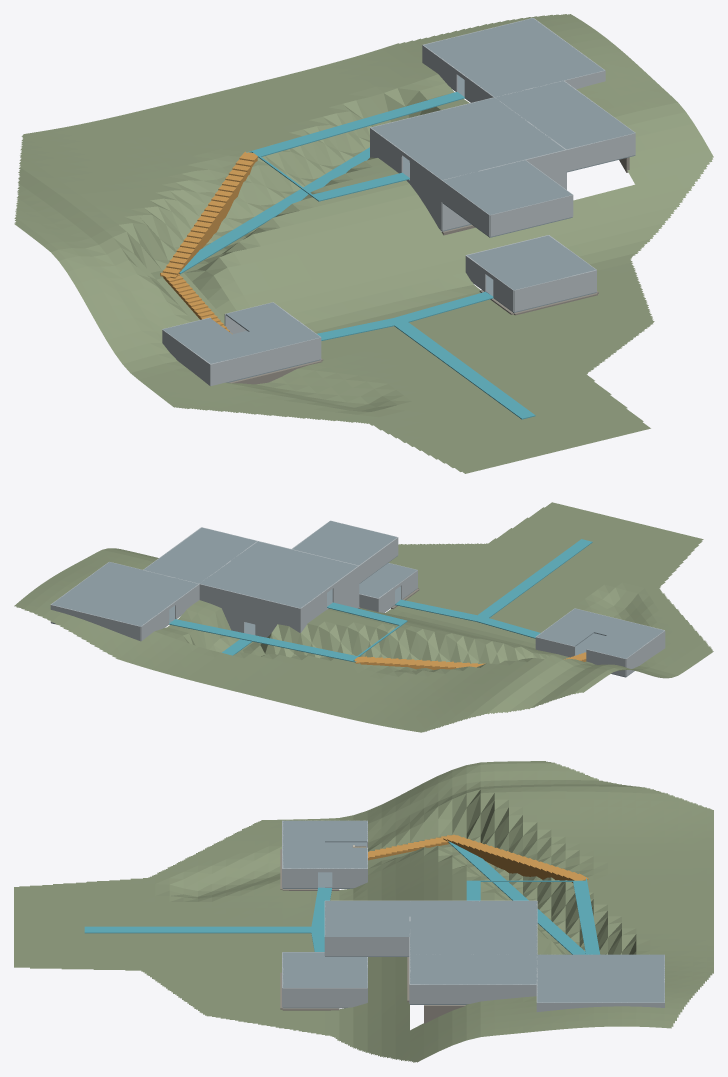
Rendered from open-circulation.glb.
3 renders of one model, top to bottom at view 1: azimuth 30°, elevation 25°; view 2: azimuth 150°, elevation 25°; view 3: azimuth 270°, elevation 25°, orthographic. The views are drawn at different scales.
Visible parts, largest first — view 1: Saved editor stair bench terrain WLD-03, Ceiling cap gallery, Ceiling cap chamber, Ceiling cap fork, Ceiling cap alcove, Ceiling cap wash, Wall shelter S, L15 support 0, L12 support 0, Wall wash S, Wall alcove S, Wall fork S (+14 smaller); view 2: Saved editor stair bench terrain WLD-03, Ceiling cap gallery, Ceiling cap chamber, Ceiling cap fork, Ceiling cap alcove, Wall gallery N, L12 support 0, Ceiling cap wash, Opened stair shell Wall shelter N, Wall chamber N, Ceiling cap shelter.003, Ceiling cap shelter.004 (+15 smaller); view 3: Saved editor stair bench terrain WLD-03, Ceiling cap gallery, Ceiling cap chamber, Ceiling cap fork, Ceiling cap alcove, Ceiling cap wash, Wall fork E, Wall alcove E, Wall wash E, L15 support 0, L12 support 0, Ceiling cap shelter (+9 smaller).
Part boxes in pixels (x1,y1,x2,y2): Saved editor stair bench terrain WLD-03: (14,14,713,473); Ceiling cap gallery: (371,97,564,179); Ceiling cap chamber: (424,18,604,96); Ceiling cap fork: (495,80,634,149); Ceiling cap alcove: (443,160,572,214); Ceiling cap wash: (467,235,595,290); Wall shelter S: (210,337,320,385); L15 support 0: (179,147,369,274); L12 support 0: (246,92,464,156); Wall wash S: (514,270,596,311); Wall alcove S: (490,195,572,236); Wall fork S: (566,133,635,171); Saved editor stair bench terrain WLD-03: (14,502,713,732); Ceiling cap gallery: (200,541,357,608); Ceiling cap chamber: (51,562,197,626); Ceiling cap fork: (144,527,256,583); Ceiling cap alcove: (292,521,396,565); Wall gallery N: (199,583,300,626); L12 support 0: (169,619,357,662); Ceiling cap wash: (359,563,416,598); Opened stair shell Wall shelter N: (535,637,625,676); Wall chamber N: (50,604,140,641); Ceiling cap shelter.003: (536,623,593,646); Ceiling cap shelter.004: (556,608,612,631); Saved editor stair bench terrain WLD-03: (14,761,713,1062); Ceiling cap gallery: (410,901,537,954); Ceiling cap chamber: (537,954,664,1002); Ceiling cap fork: (410,954,537,984); Ceiling cap alcove: (325,901,409,936); Ceiling cap wash: (282,952,367,987); Wall fork E: (410,984,537,1003); Wall alcove E: (325,937,409,956); Wall wash E: (282,988,367,1007); L15 support 0: (448,841,585,954); L12 support 0: (573,878,600,954); Ceiling cap shelter: (325,820,367,842).
Size of the model in its own units: 91 by 12.65 by 99.
Materials: 21 (12 with a texture image).
